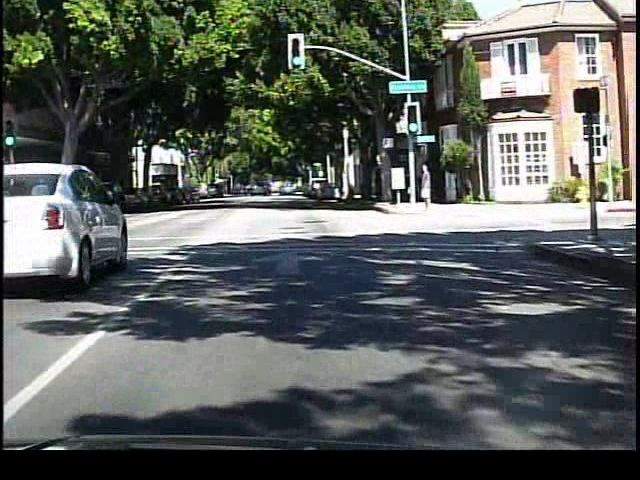person: (417, 158, 437, 213)
